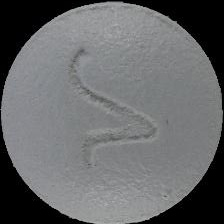58118-5060: (0, 0, 224, 224)
